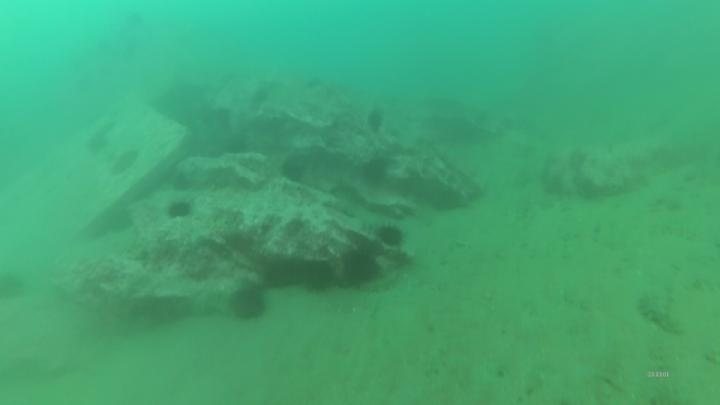echinus: (227, 281, 271, 325), (338, 246, 382, 288), (260, 256, 306, 293), (299, 259, 338, 296), (358, 154, 392, 189), (108, 146, 142, 177), (374, 221, 408, 251), (0, 269, 28, 304), (279, 156, 309, 186), (164, 197, 195, 223), (364, 106, 387, 135)
holothurian: (635, 288, 686, 338)
